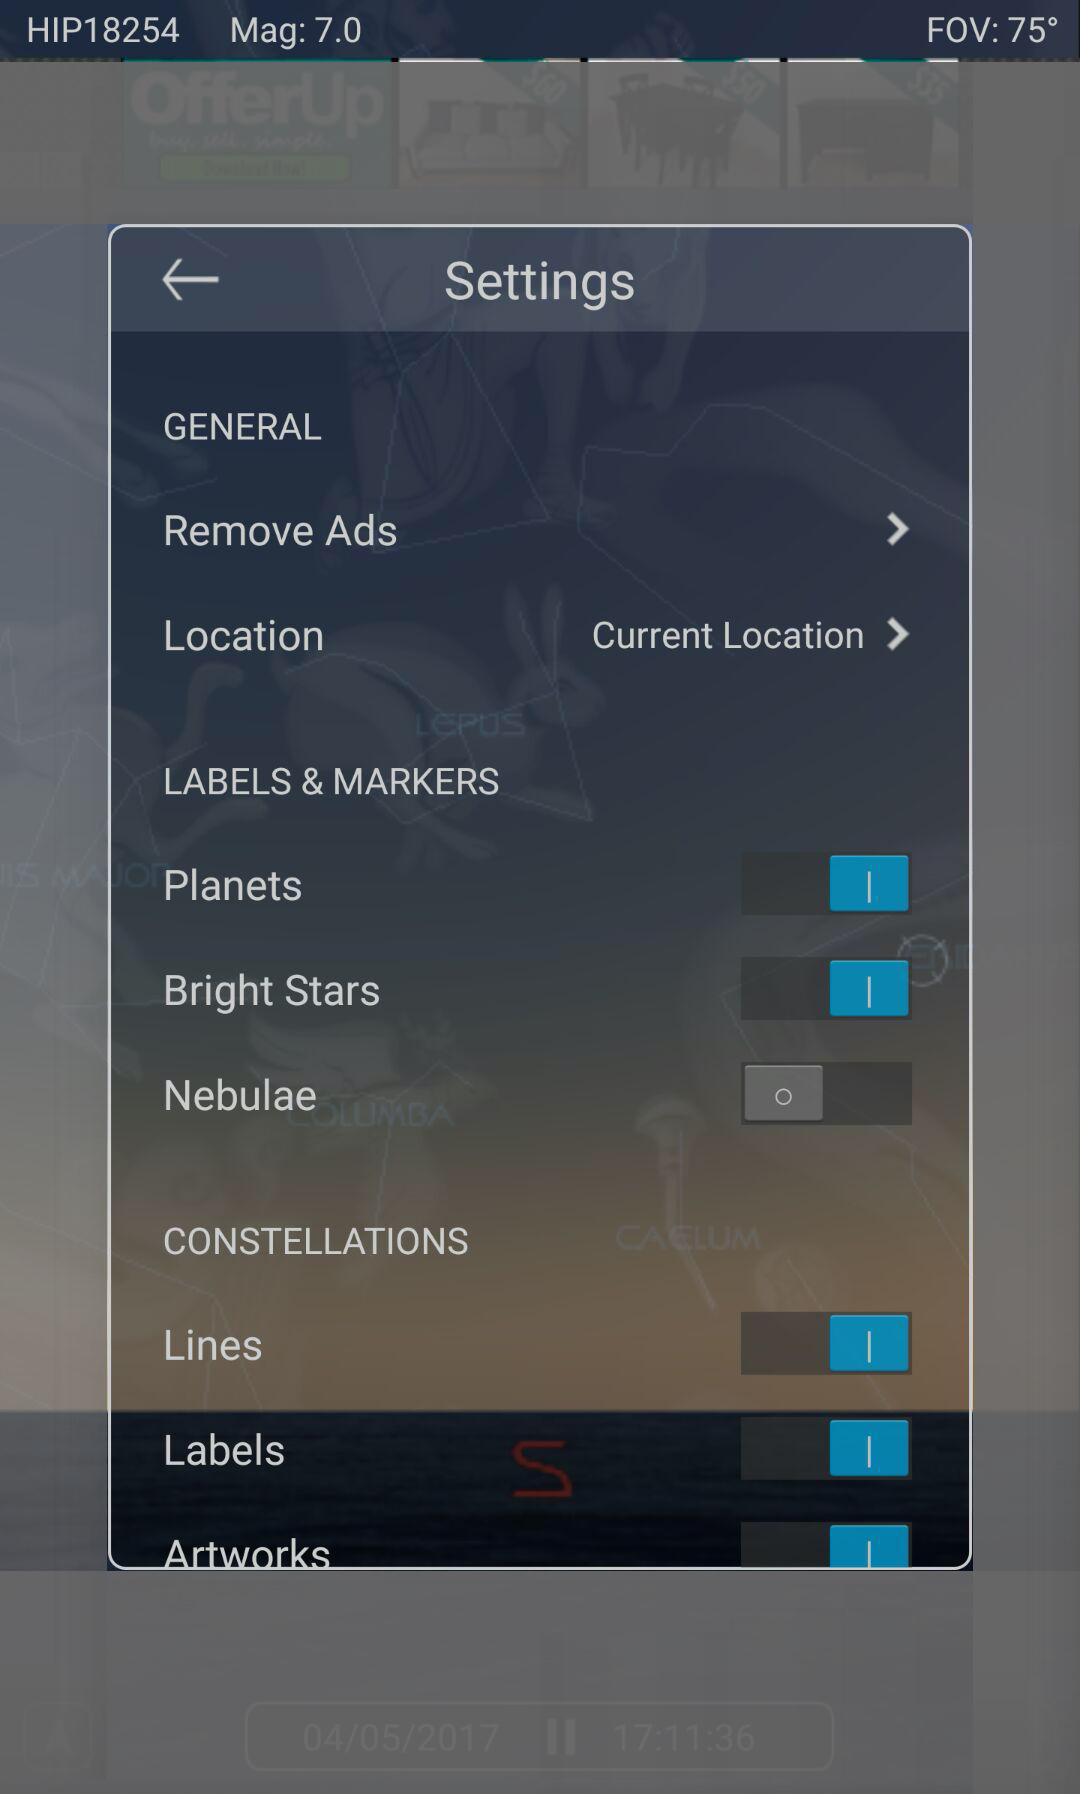Icon: (161, 258, 220, 301), (885, 616, 911, 651), (887, 513, 910, 547)
Modal: (108, 224, 974, 1572)
Switch: (740, 1311, 912, 1376), (740, 1062, 913, 1126), (740, 1417, 912, 1481), (740, 852, 912, 916), (740, 959, 911, 1021), (740, 1522, 913, 1568)
Text: (589, 618, 866, 656), (165, 768, 500, 796), (447, 261, 635, 311), (165, 971, 380, 1015), (167, 1226, 469, 1256), (167, 515, 398, 548), (167, 619, 323, 652), (167, 1078, 316, 1112), (165, 1539, 331, 1568), (167, 868, 302, 902), (167, 413, 322, 441), (167, 1433, 283, 1466), (165, 1328, 263, 1362)
UpperTaskBar: (1, 1, 1080, 64)
